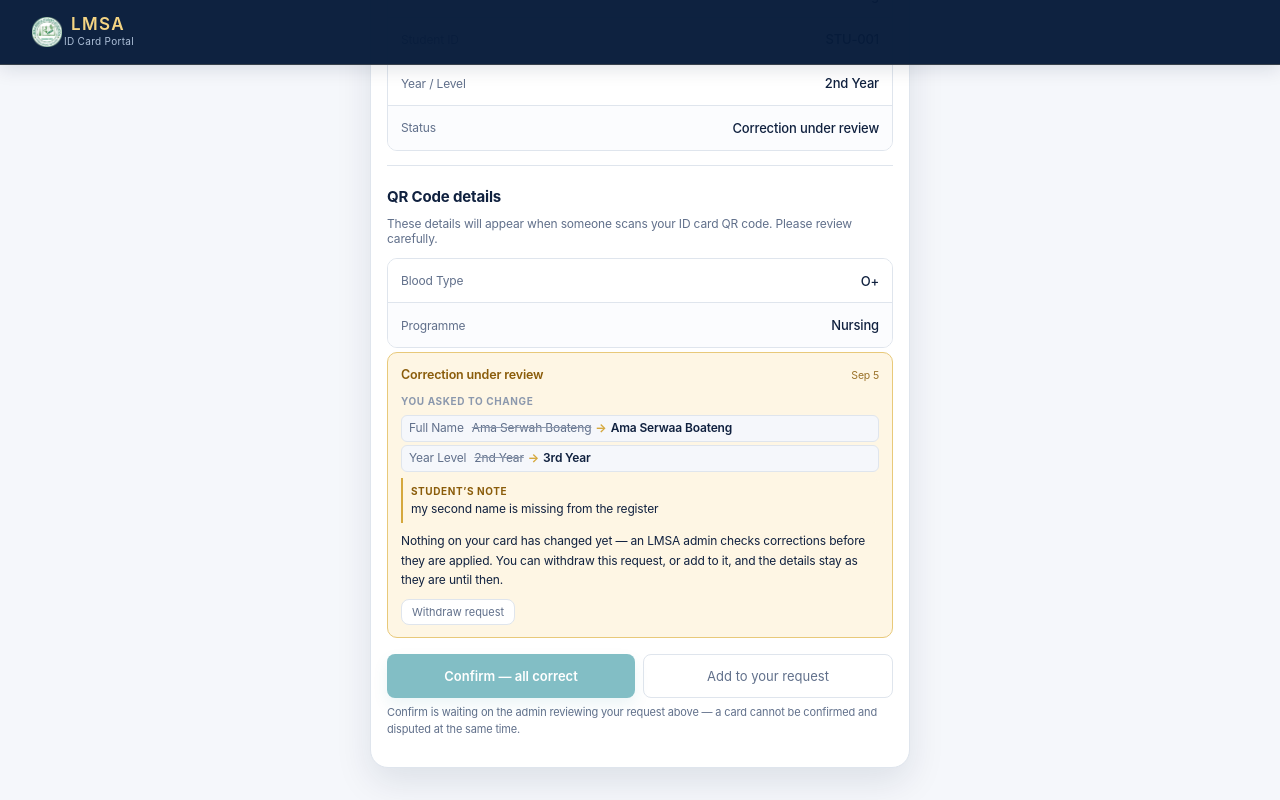
preview page — a correction is a request under review › withdraws the open request and re-reads the queue
The width and height of the screenshot is (1280, 800).
(page scrolled)
Click the button "Withdraw request": {"x": 458, "y": 612} [401,599,515,625]
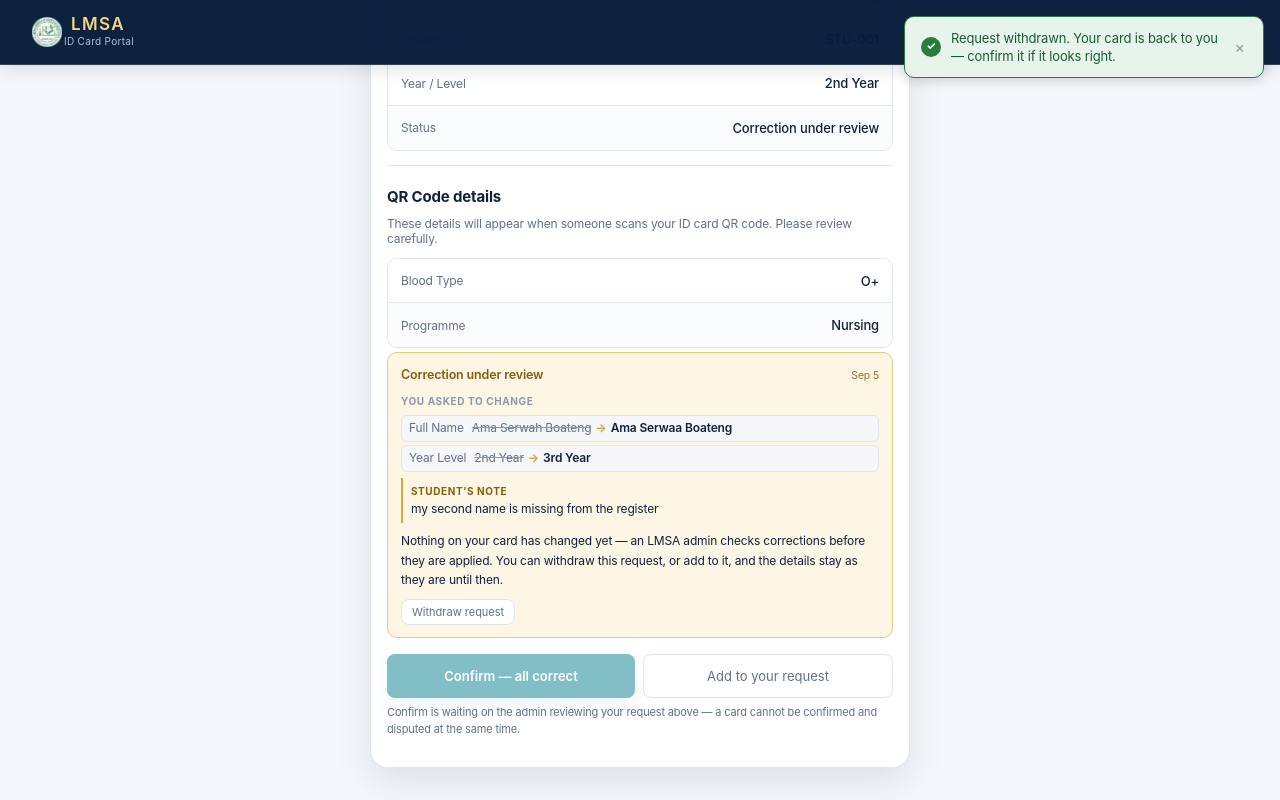
Expected: the text "Request withdrawn" is shown, [951,30,1218,64]
